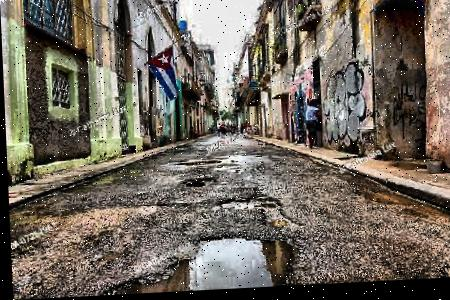pothole: (92, 232, 296, 293), (255, 194, 292, 232), (216, 195, 279, 213), (179, 177, 215, 190), (171, 159, 219, 168)
